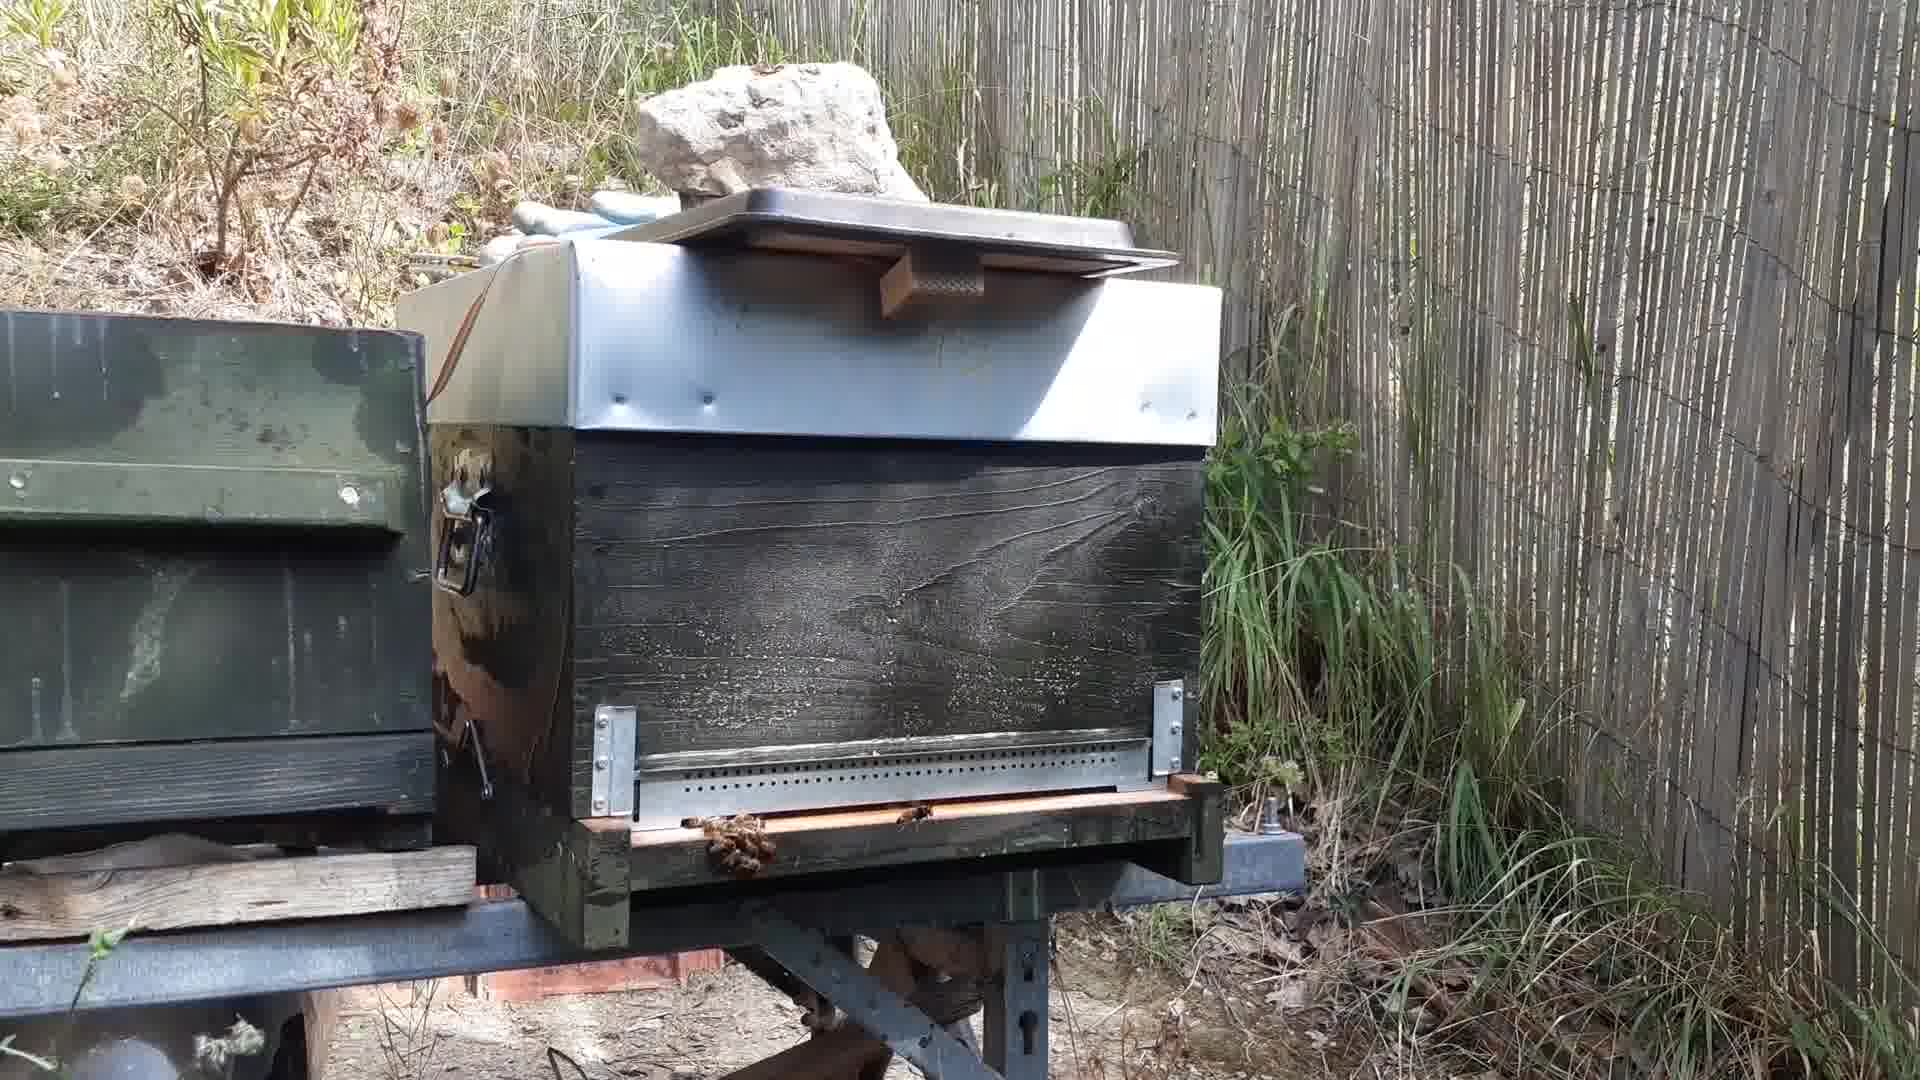bee: (707, 810, 782, 876)
hornet: (884, 796, 942, 837)
